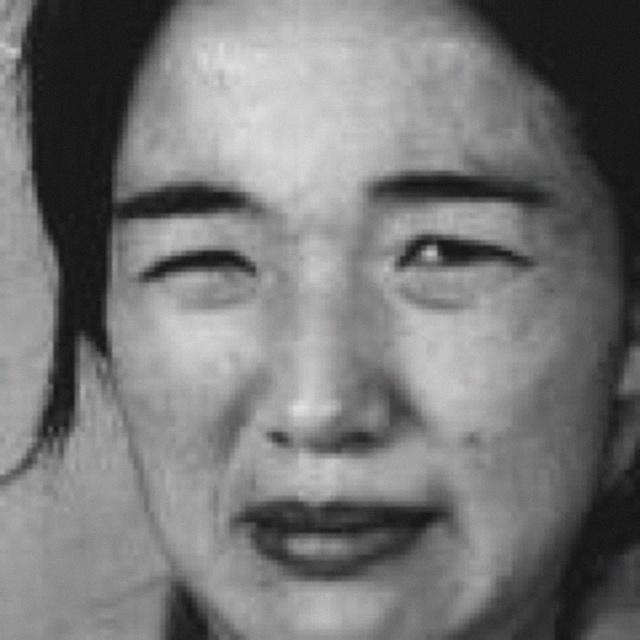disgust: (80, 20, 536, 640)
